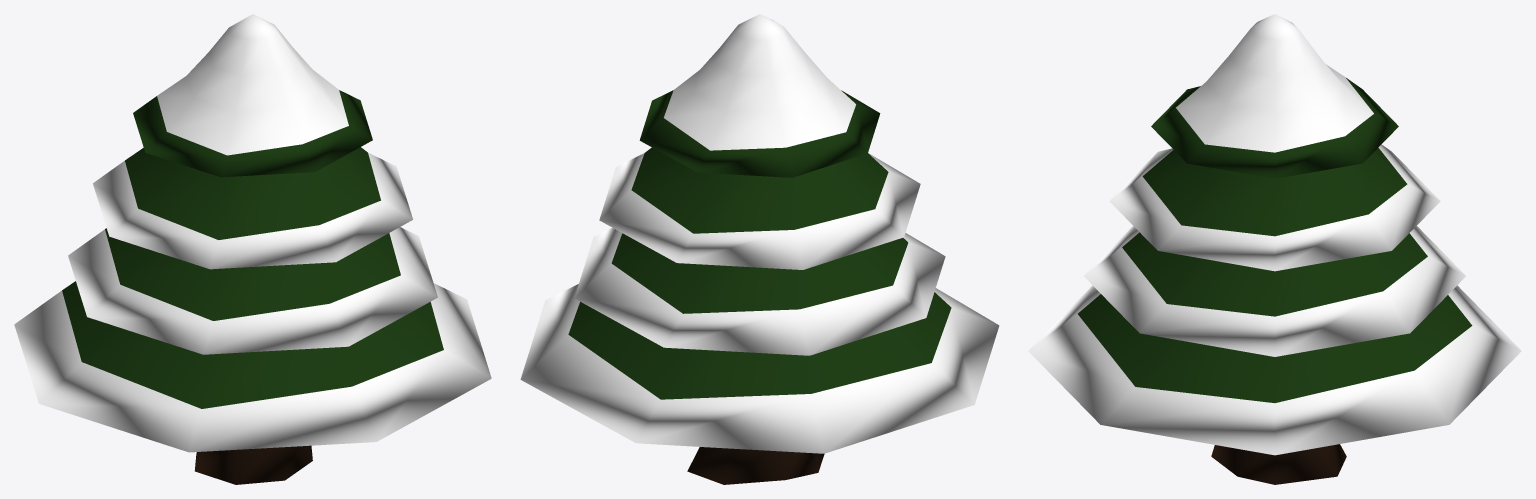
The model's file is ArbolesPequesPenguinDelivery.fbx.
3 views of the same model, side by side, from view 1: azimuth 30°, elevation 25°; view 2: azimuth 150°, elevation 25°; view 3: azimuth 270°, elevation 25° (orthographic).
Parts seen in each view (by area): view 1: arbolnevadopeque; view 2: arbolnevadopeque; view 3: arbolnevadopeque.
Part boxes in pixels (left/top/right/bottom): arbolnevadopeque: left=14, top=14, right=491, bottom=484; arbolnevadopeque: left=520, top=14, right=999, bottom=484; arbolnevadopeque: left=1028, top=14, right=1521, bottom=484.
Bounding box in the file's own units: 4.57 × 4.52 × 4.57.
